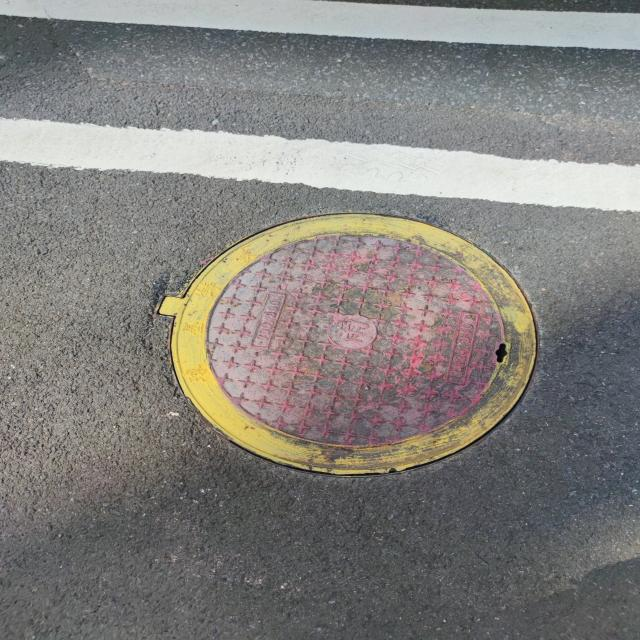Good: (156, 207, 544, 482)
